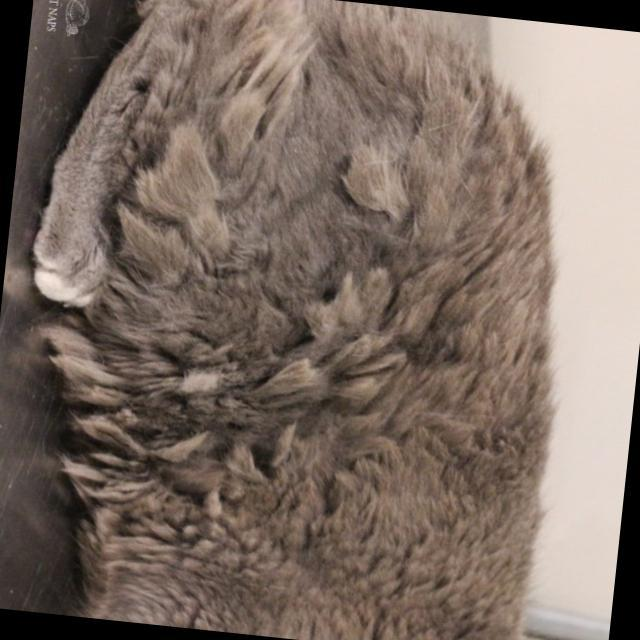Healthy skin: (269, 258, 509, 543), (257, 17, 471, 260), (122, 517, 516, 640), (130, 250, 272, 494), (171, 14, 265, 150), (124, 150, 233, 233), (455, 136, 523, 268)
